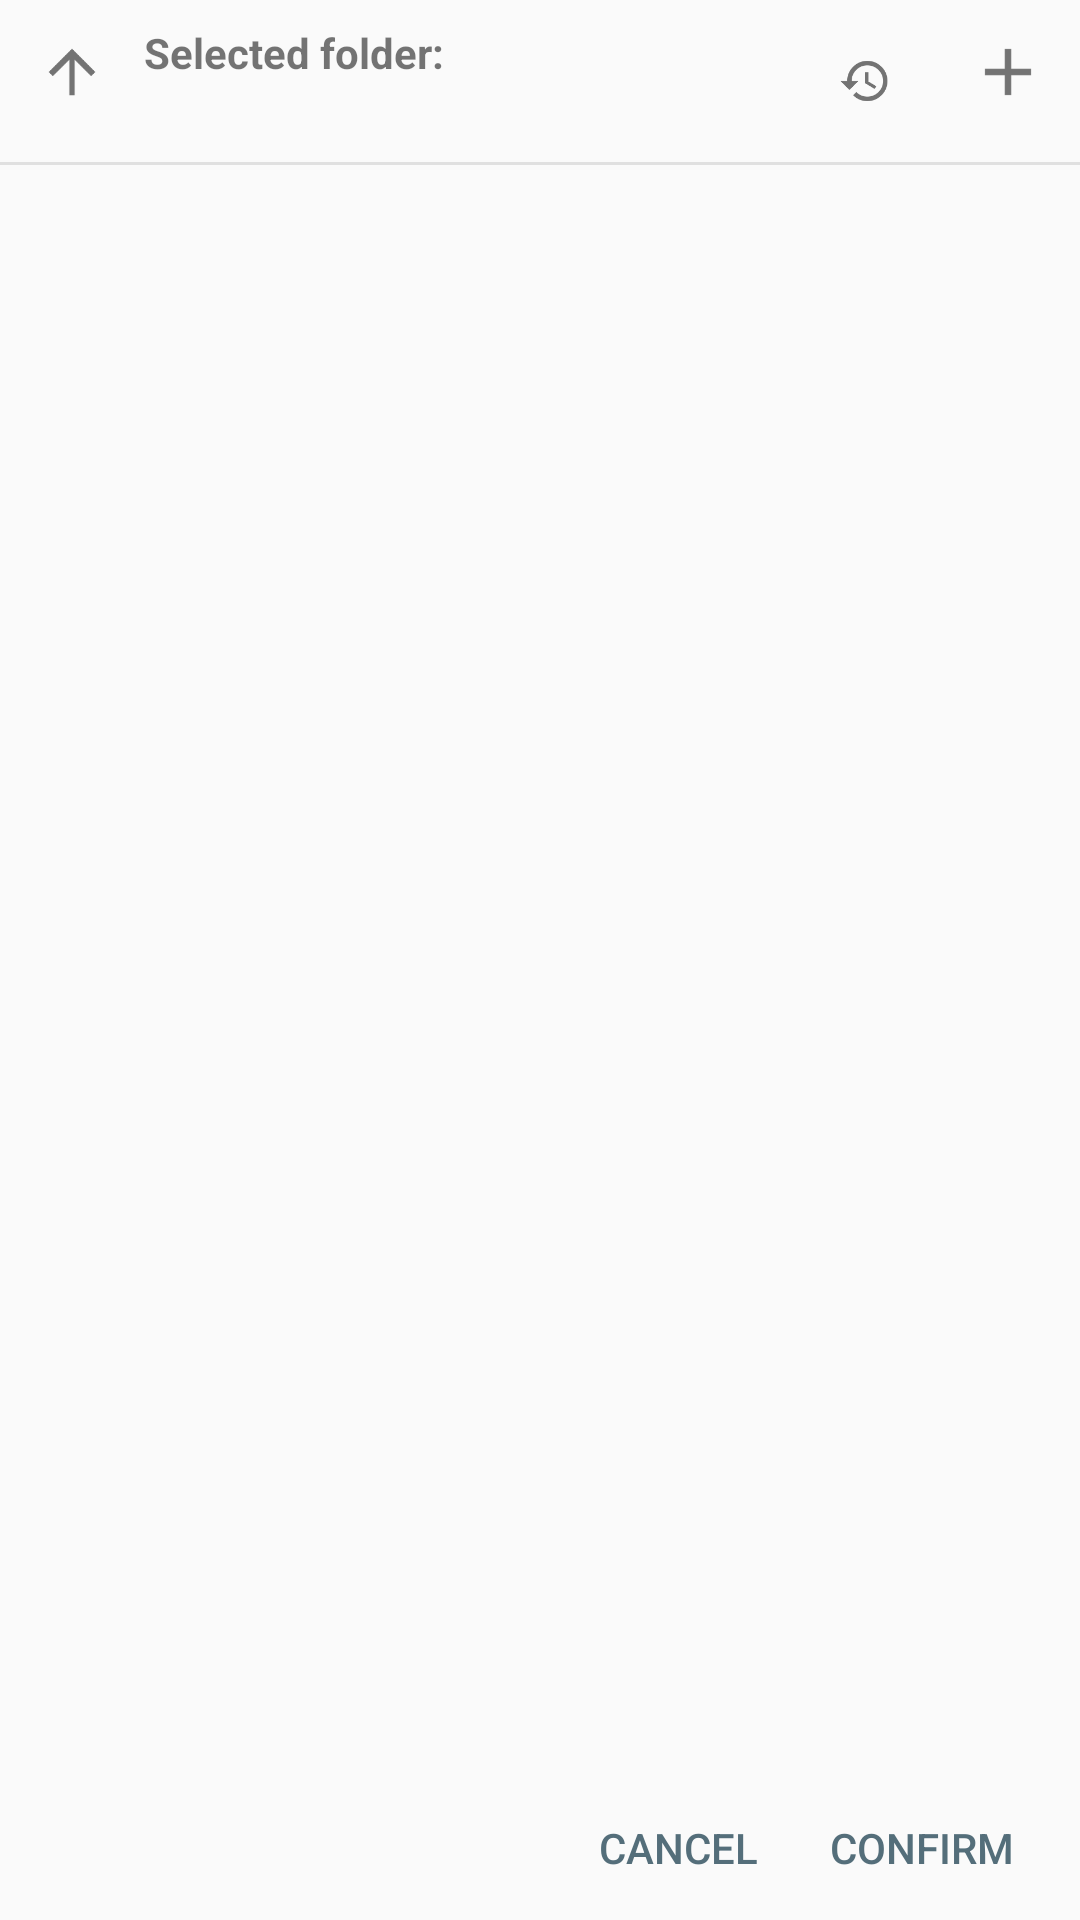

Icons on this 1080w x 1920h Android screen, each with its box as {"left": x1, "top": y1, "right": x2, "bottom": y2}:
Create folder: {"left": 985, "top": 49, "right": 1031, "bottom": 95}
restore: {"left": 841, "top": 61, "right": 888, "bottom": 101}
Up: {"left": 49, "top": 49, "right": 95, "bottom": 96}
